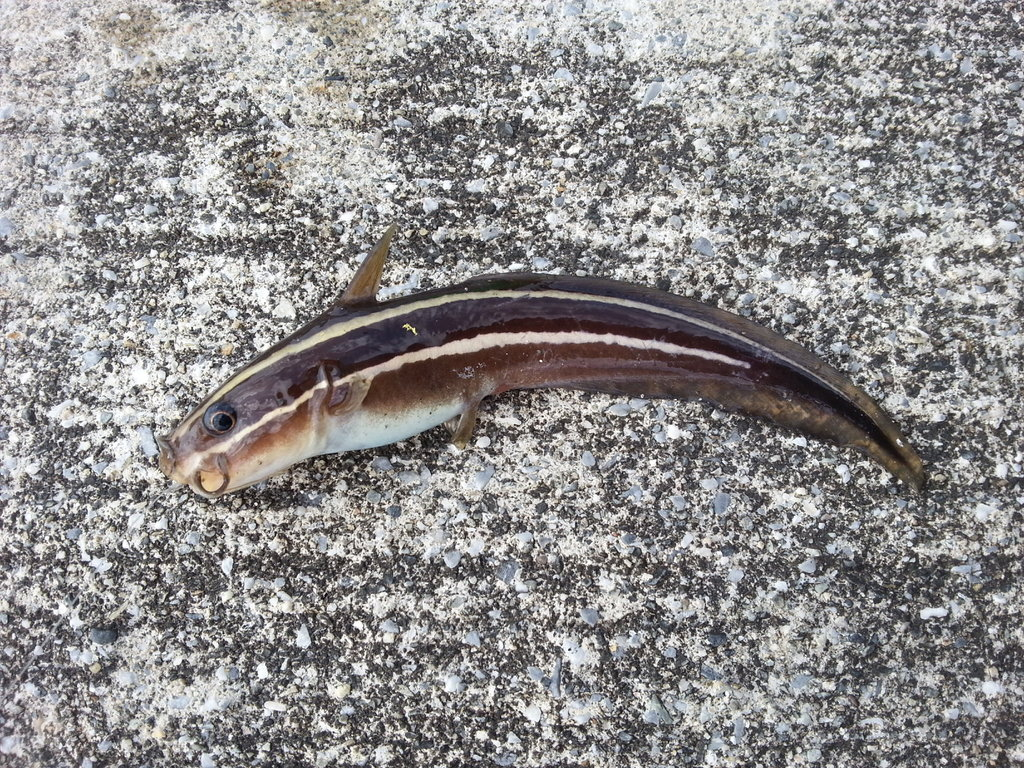gonzui: (125, 212, 967, 539)
